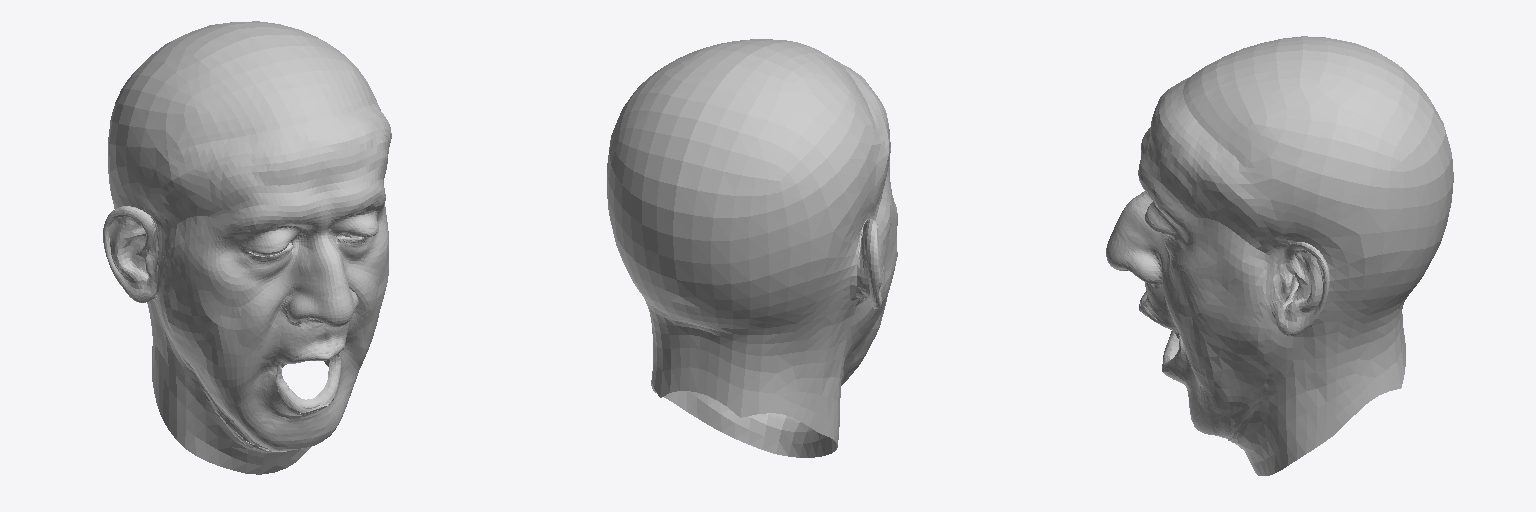
The model's file is bm_v16_result_full.obj.
3 renders of one model, left to right at view 1: azimuth 30°, elevation 25°; view 2: azimuth 150°, elevation 25°; view 3: azimuth 270°, elevation 25°, orthographic.
Size of the model in its own units: 81.62 by 124 by 93.34.